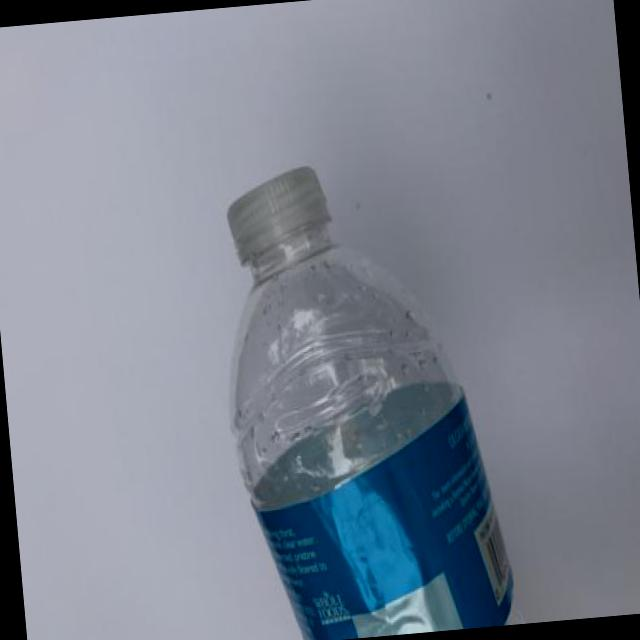Recycle: (208, 146, 525, 640)
